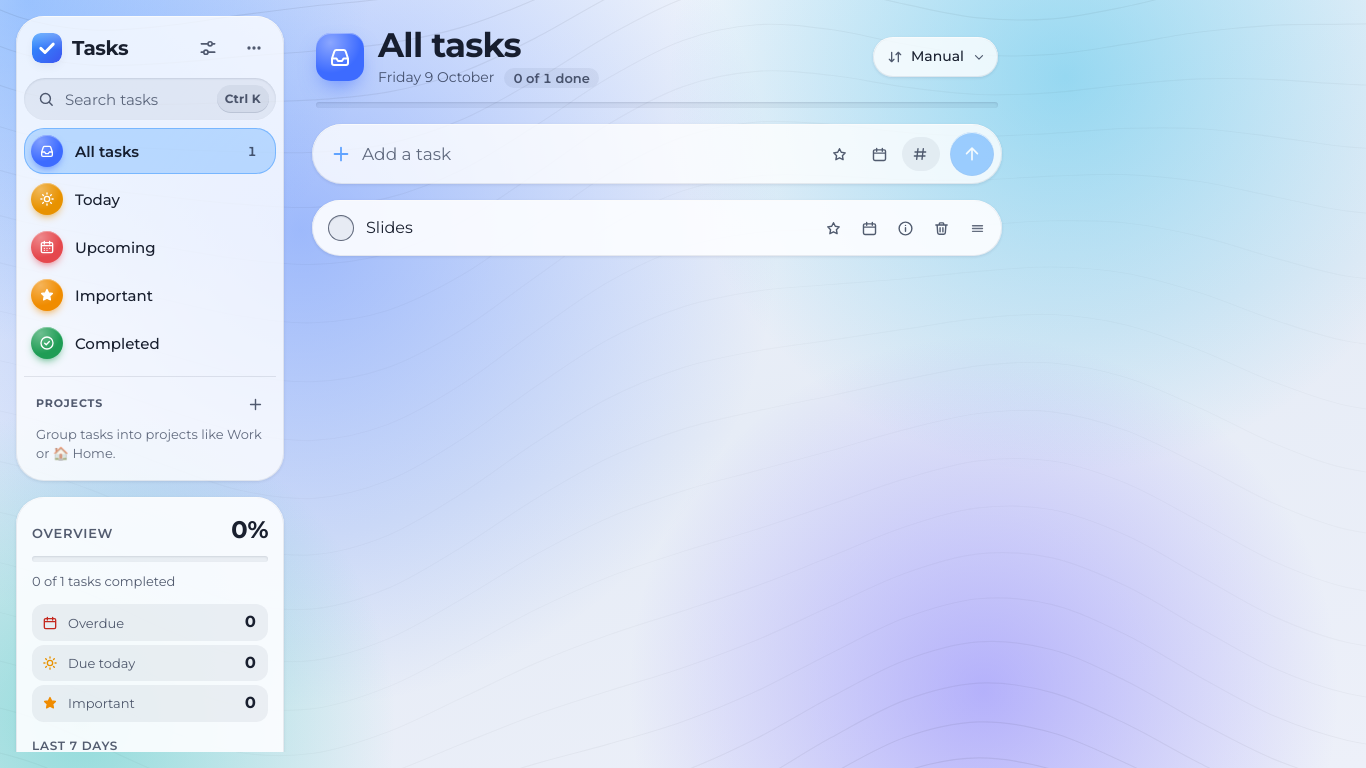
Scenario: TaskItem context menu › schedules from the calendar page and navigates items with arrows
Right-click the element showing "Slides": (657, 228) [312,200,1002,256]
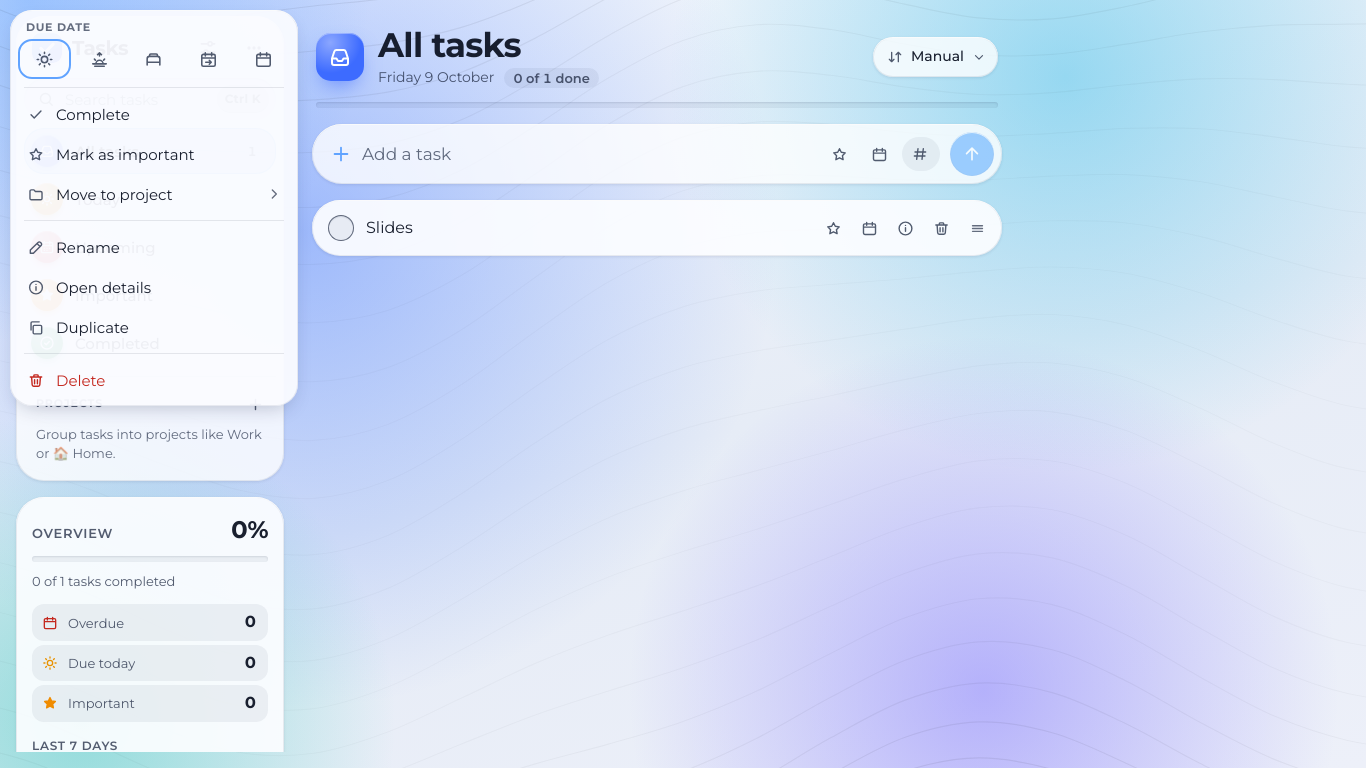
Press End
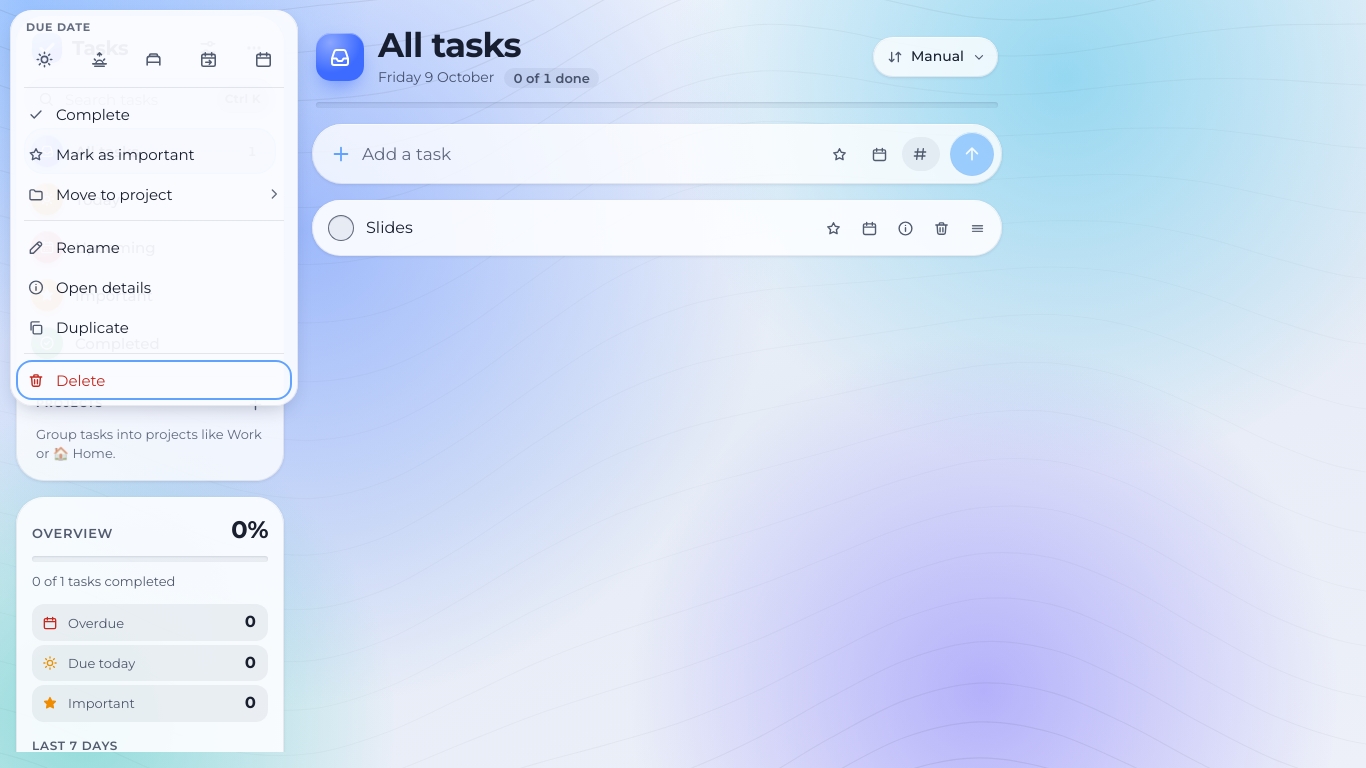
Press Home Arrowdown
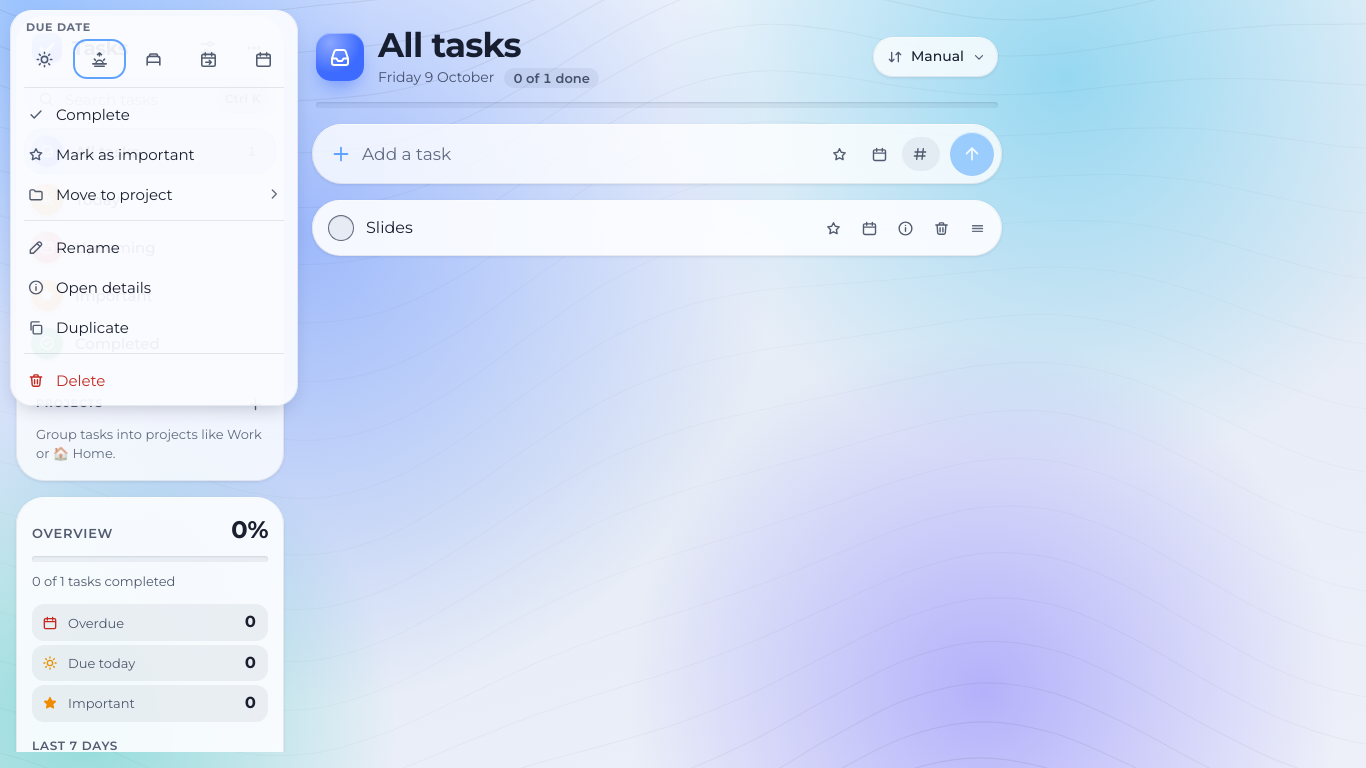
Click the menu item named "Pick a date": (264, 59) [237,39,290,79]
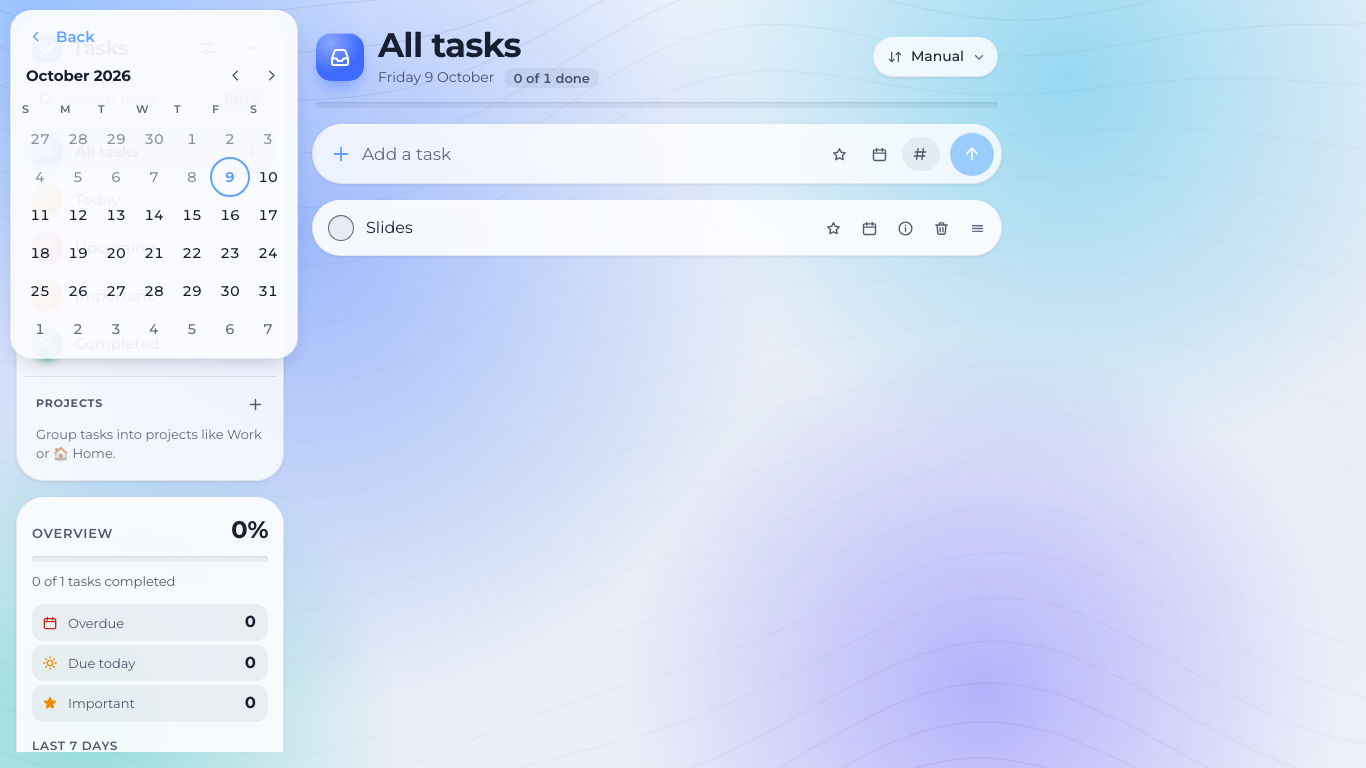
Click the button "11": (40, 215) [22,197,58,233]
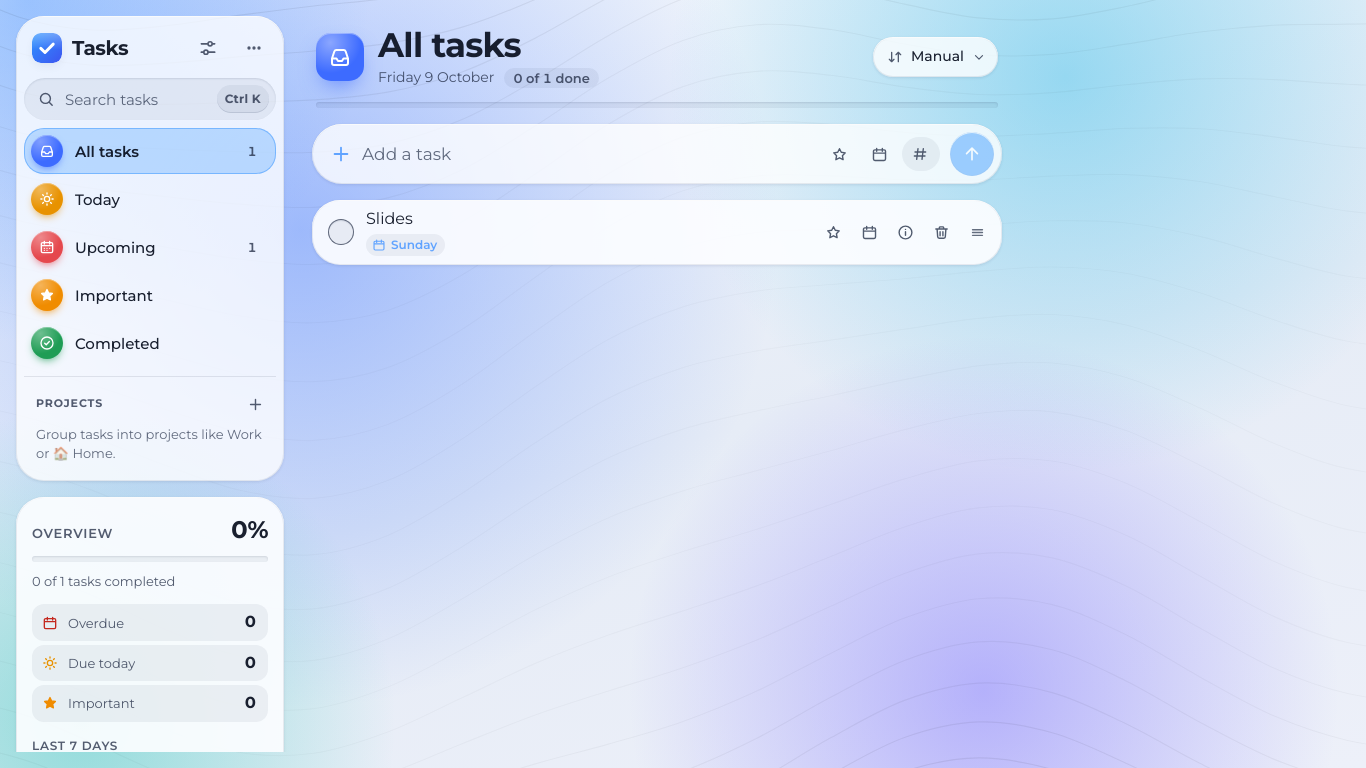
Expected: the menu is gone
